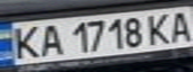1: (66, 19, 90, 53), (106, 16, 127, 50)
7: (84, 17, 109, 52)
8: (121, 14, 148, 48)
A: (36, 21, 66, 57), (163, 8, 193, 43)
K: (6, 22, 45, 61), (142, 11, 175, 46)
